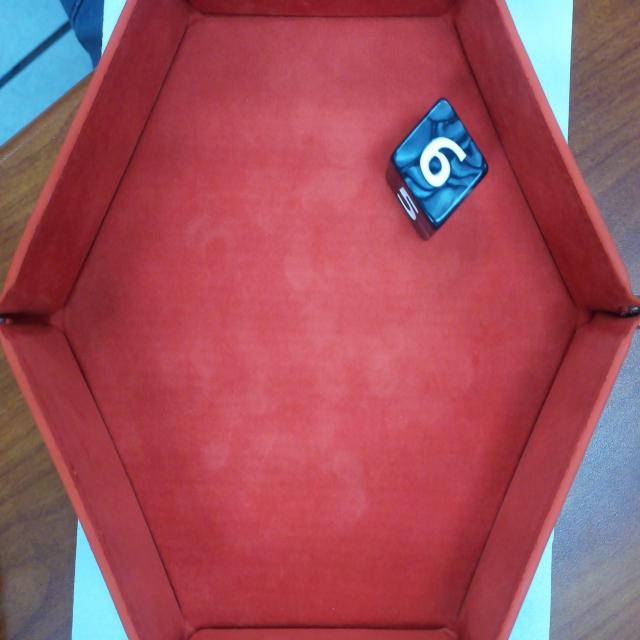dice: (389, 94, 491, 231)
